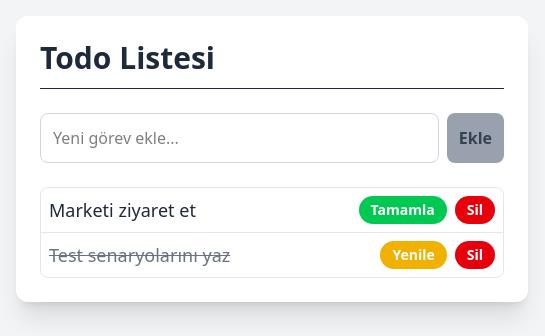
template spec › Sil butonuna tıklandığında görev listeden kaldırılıyor mu
expect the number of list items is 2: met, box [41,188,503,233]; [41,233,503,277]
expect the text "Marketi ziyaret et" is shown: met, box [49,196,196,224]
Click the button with test id "delete-button" in the row of "Marketi ziyaret et": (475, 210) [455,196,495,224]
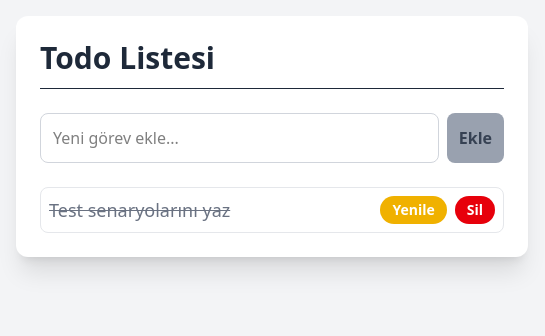
expect the text "Test senaryolarını yaz" is shown: met, box [49,196,230,224]
expect the number of list items is 1: met, box [41,188,503,232]
